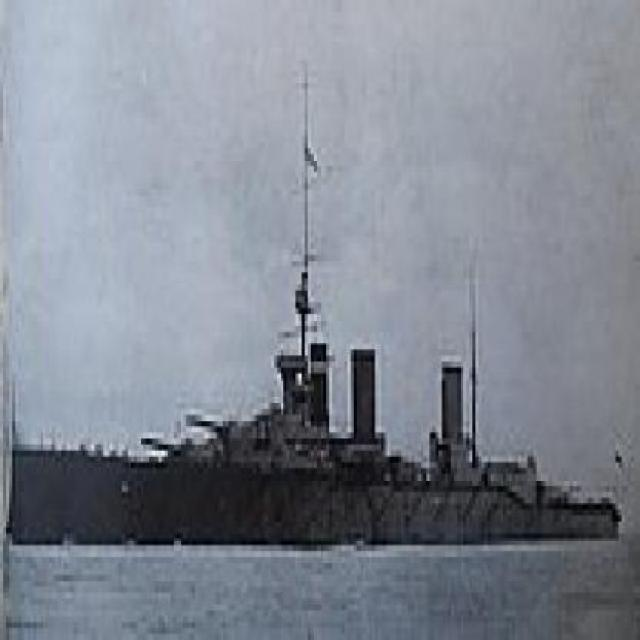warship2: (7, 72, 629, 558)
